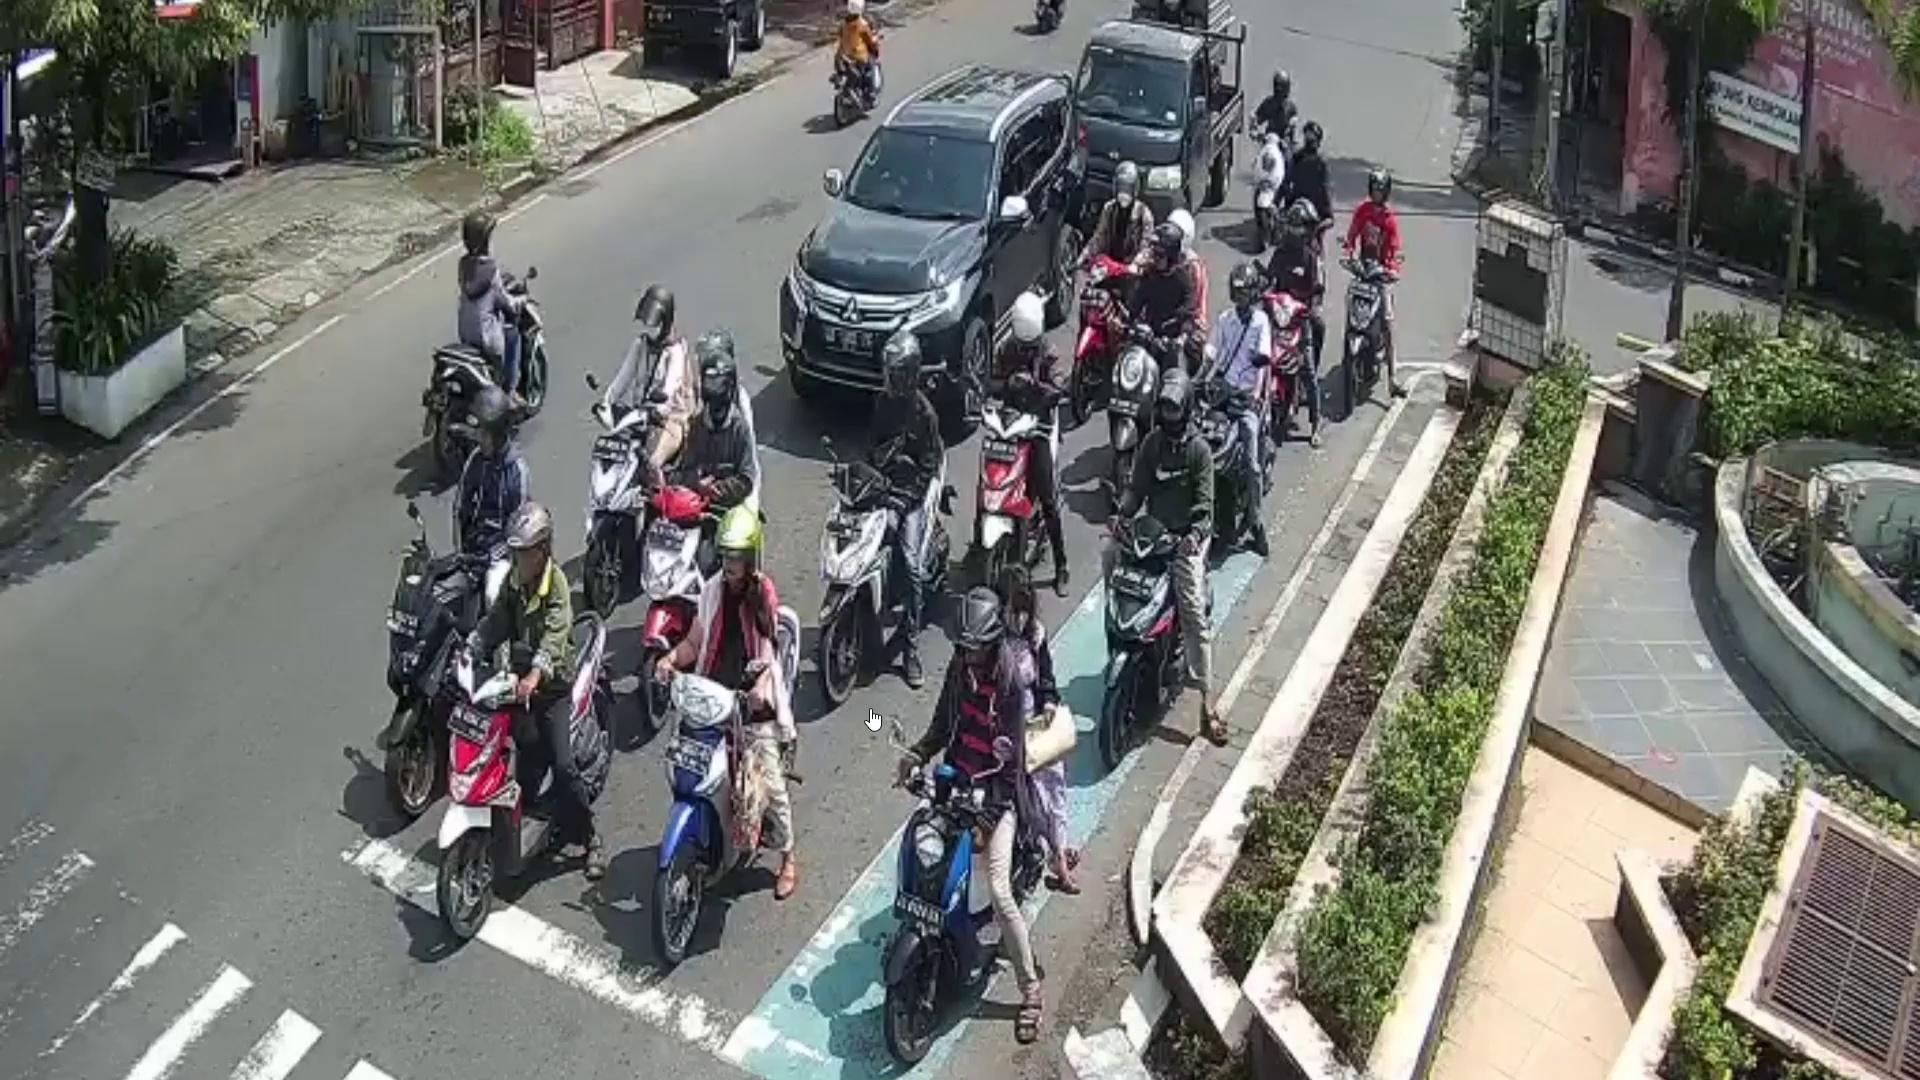car: (782, 65, 1089, 422), (1069, 18, 1244, 233)
motorbike: (440, 608, 611, 948), (659, 600, 806, 948), (818, 444, 947, 728), (880, 760, 994, 1065), (382, 542, 484, 822), (433, 272, 549, 473), (1095, 518, 1182, 775), (580, 381, 649, 601), (982, 405, 1055, 588), (1341, 253, 1396, 406)
